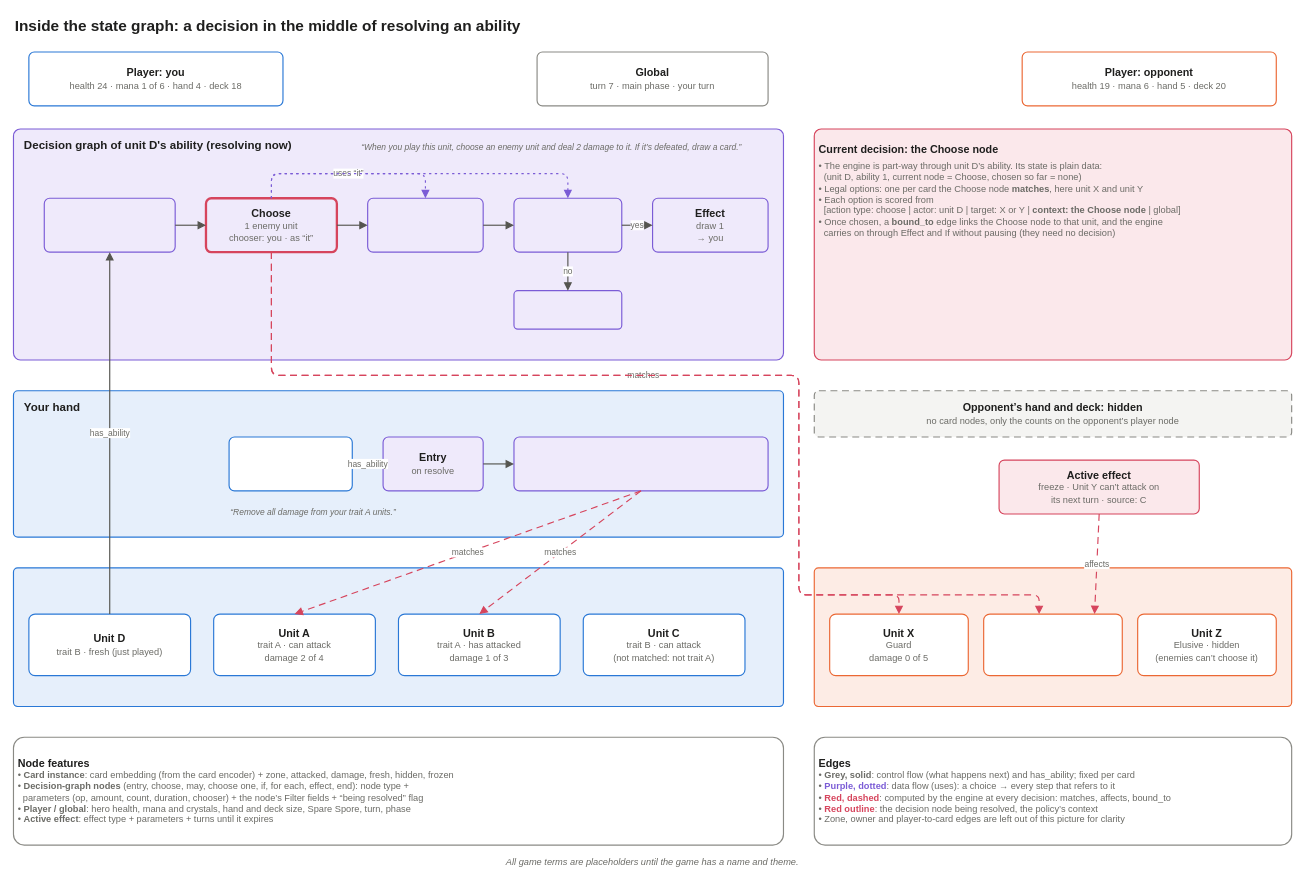
Some shapes in this 1306 by 884 pixel diagram are drawn without their labels. The shapes that lost their labels are listed below. From the top down, each one's box as (x1, y1, x2, y2) in pixels, then its label:
(43, 197, 175, 252): Entry when played source: unit D
(367, 197, 483, 252): Effect deal 2 damage → it
(513, 197, 622, 252): If it was defeated
(513, 290, 622, 329): End
(228, 436, 353, 491): Action card cost 2
(513, 436, 768, 491): Effect remove all damage → all(unit · yours · trait A)
(13, 567, 784, 707): Your play area
(813, 567, 1292, 707): Opponent’s play area
(983, 613, 1123, 676): Unit Y frozen damage 3 of 4
